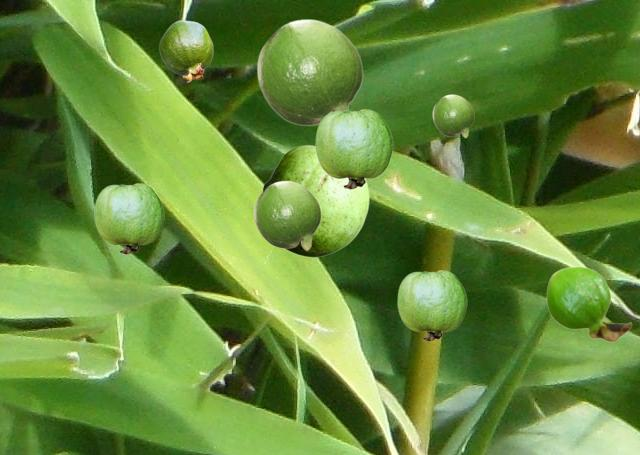guava: (262, 145, 368, 256), (256, 18, 362, 126), (546, 266, 631, 341), (315, 109, 392, 188), (94, 183, 163, 253), (397, 270, 466, 340), (253, 180, 320, 250), (159, 20, 212, 81), (432, 94, 473, 137)
